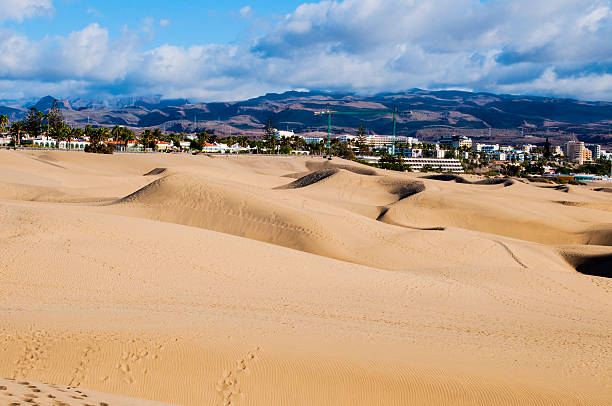human_foot_print: (46, 235, 124, 288), (2, 371, 94, 406), (107, 330, 158, 383), (185, 186, 266, 219), (218, 350, 255, 402)
